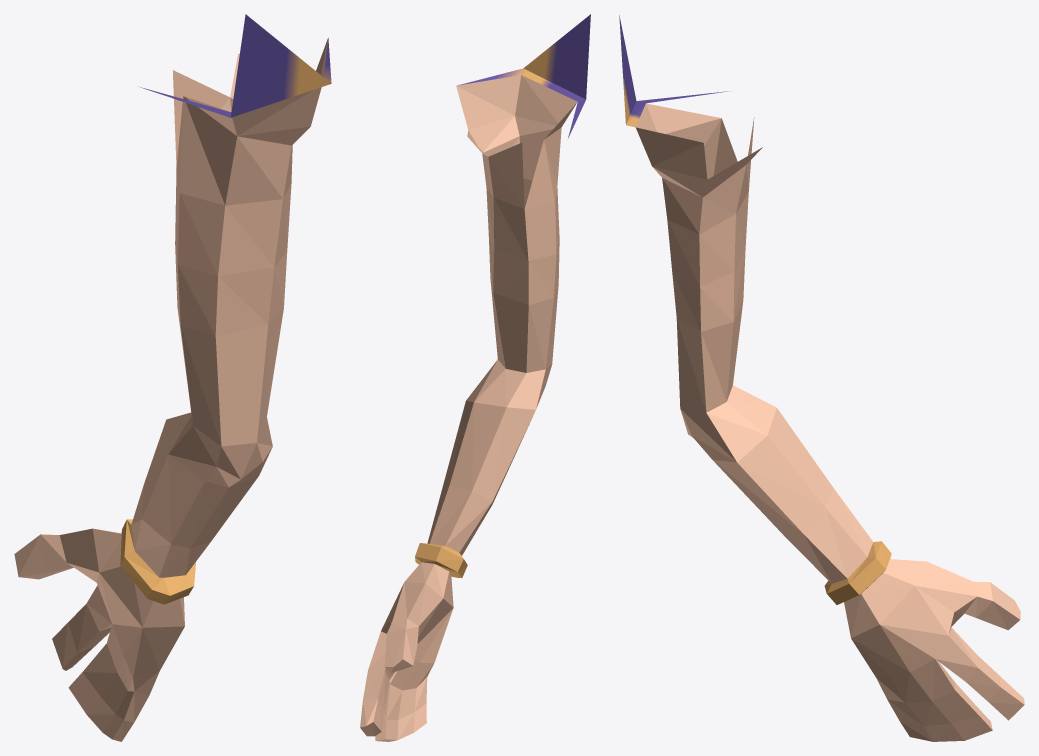
The model's file is Mother_02_ArmR_38.obj.
The picture shows the model from 3 angles, left to right: view 1: azimuth 30°, elevation 25°; view 2: azimuth 150°, elevation 25°; view 3: azimuth 270°, elevation 25°; orthographic projection. The views are drawn at different scales.
Visible parts, largest first — view 1: Mother_02_ArmR_38; view 2: Mother_02_ArmR_38; view 3: Mother_02_ArmR_38.
Part boxes in pixels (x1,y1,x2,y2): Mother_02_ArmR_38: (14, 14, 331, 741); Mother_02_ArmR_38: (360, 14, 590, 741); Mother_02_ArmR_38: (619, 15, 1024, 741).
Bounding box in the file's own units: 0.1784 × 0.8597 × 0.449.
1 material, 1 textured.
